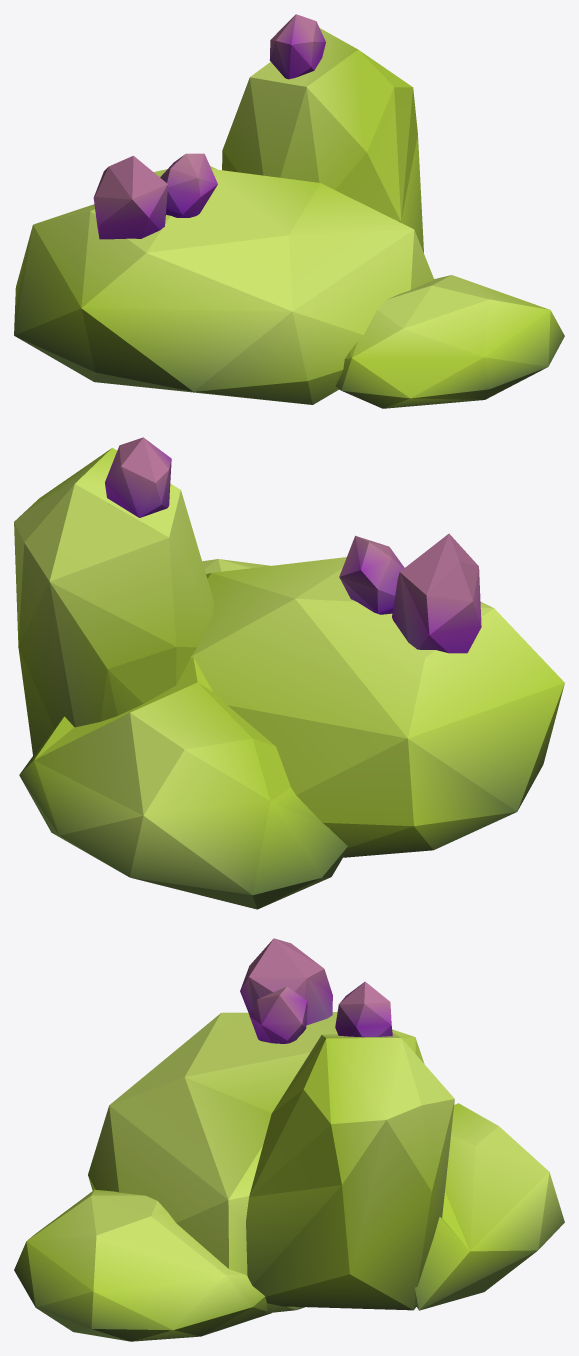
Rendered from bush flat pink flower.fbx.
3 views of the same model, one above another, from view 1: azimuth 30°, elevation 25°; view 2: azimuth 150°, elevation 25°; view 3: azimuth 270°, elevation 25° (orthographic). The views are drawn at different scales.
Parts seen in each view (by area): view 1: Icosphere; view 2: Icosphere; view 3: Icosphere.
Boxes of the visible parts, x1,y1,x2,y2 form: Icosphere: (14, 14, 564, 408); Icosphere: (14, 437, 564, 909); Icosphere: (14, 938, 564, 1341).
Bounding box in the file's own units: 784 × 507 × 816.
